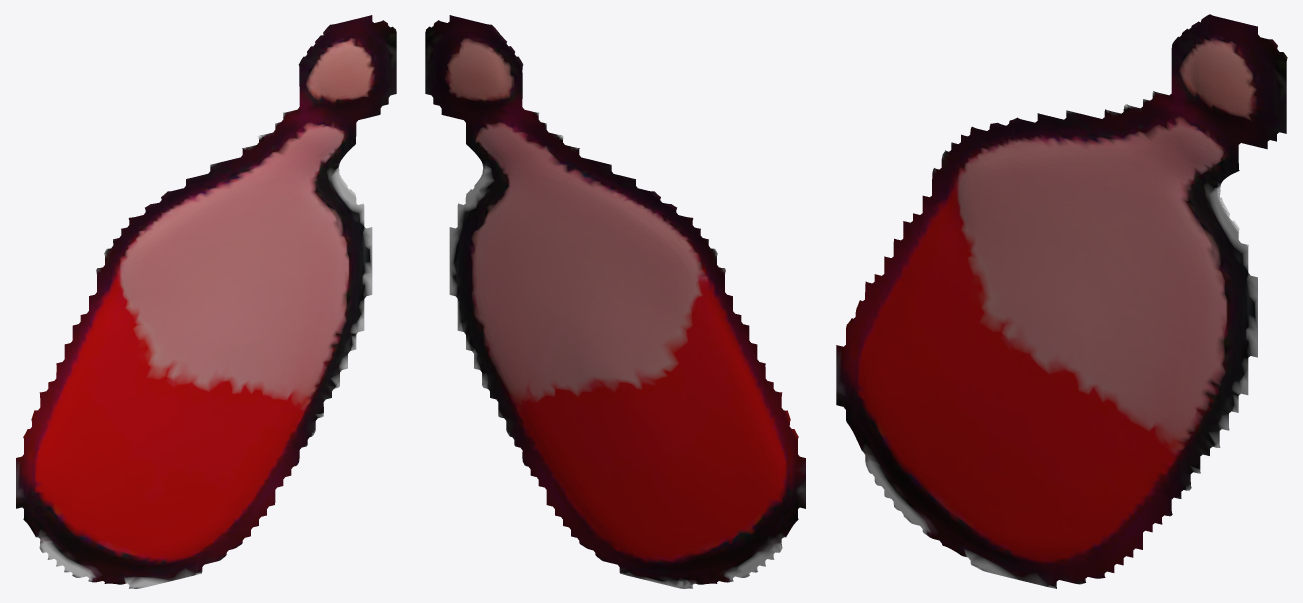
File: water_ruby.glb
3 renders of one model, left to right at view 1: azimuth 30°, elevation 25°; view 2: azimuth 150°, elevation 25°; view 3: azimuth 330°, elevation 25°, orthographic. The views are drawn at different scales.
Visible parts, largest first — view 1: geometry_0; view 2: geometry_0; view 3: geometry_0.
Part boxes in pixels (x1=…): geometry_0: x1=16, y1=15, x2=396, y2=588; geometry_0: x1=425, y1=15, x2=805, y2=588; geometry_0: x1=836, y1=14, x2=1287, y2=588.
Bounding box in the file's own units: 0.4375 × 0.5678 × 0.0294.
